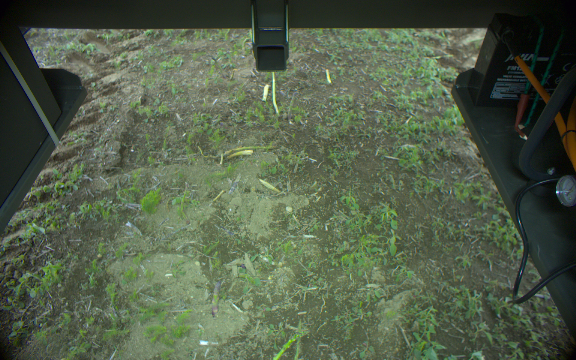aspa: (259, 328, 310, 360), (205, 274, 227, 319), (284, 89, 301, 119)
